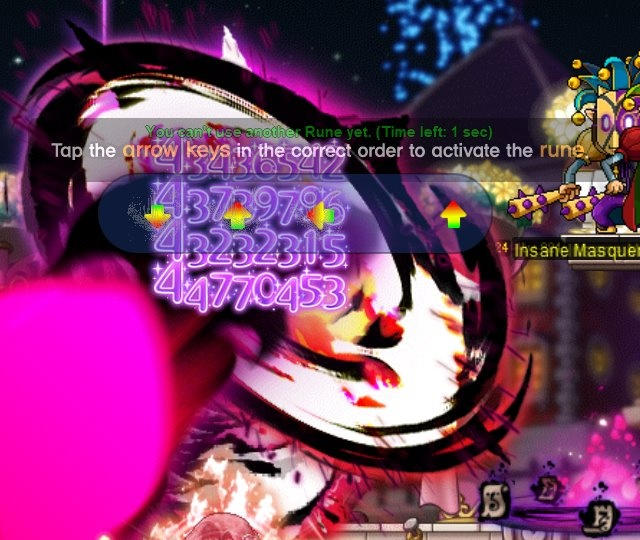down: (140, 200, 175, 238)
left: (300, 197, 342, 236)
up: (220, 194, 262, 238), (437, 195, 471, 235)
